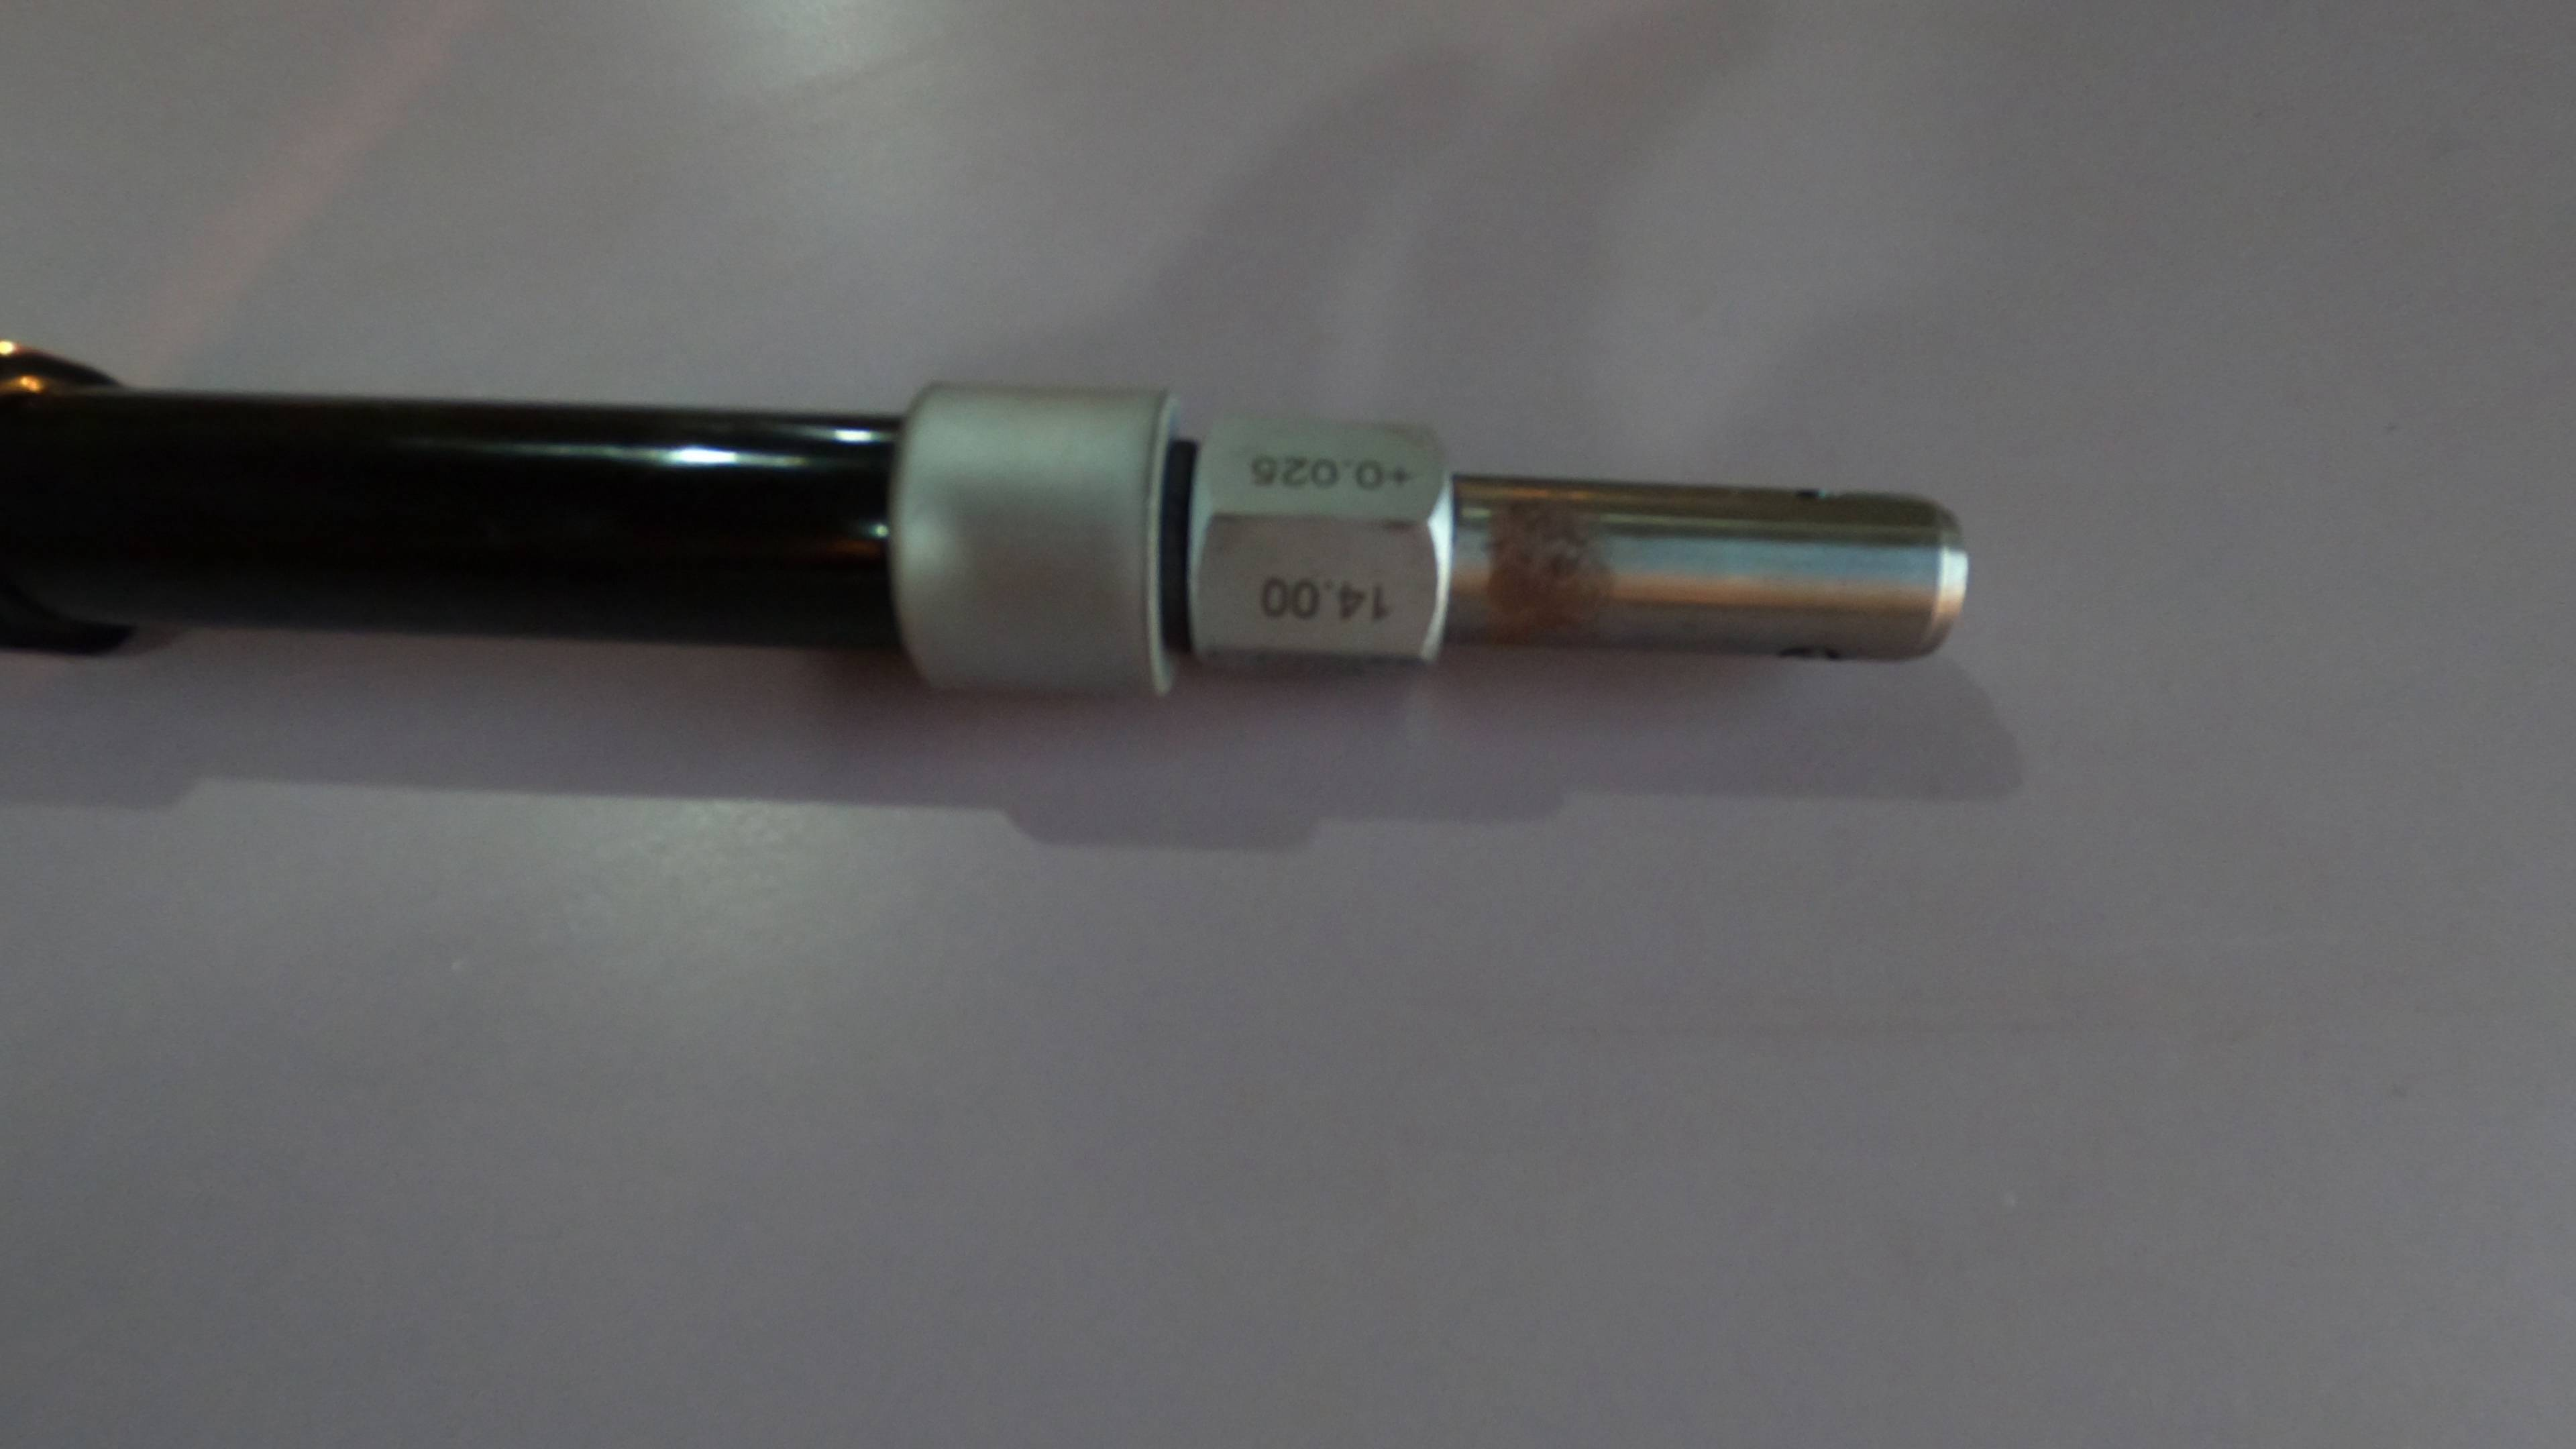air_gauge: (12, 334, 1980, 724)
